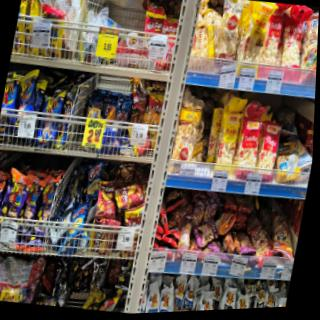food-box: (170, 92, 203, 168), (214, 111, 243, 171), (235, 117, 264, 174), (253, 119, 281, 177), (270, 138, 303, 180), (202, 105, 225, 165), (1, 168, 27, 221), (18, 173, 43, 227), (269, 216, 300, 258), (93, 179, 119, 217), (35, 179, 55, 227), (113, 184, 147, 210), (288, 137, 313, 172), (83, 162, 104, 201), (246, 226, 270, 259), (175, 222, 192, 255), (193, 225, 218, 242), (64, 185, 84, 206), (165, 216, 183, 238), (69, 206, 85, 229), (191, 202, 204, 226), (204, 198, 216, 222), (72, 167, 88, 184)
